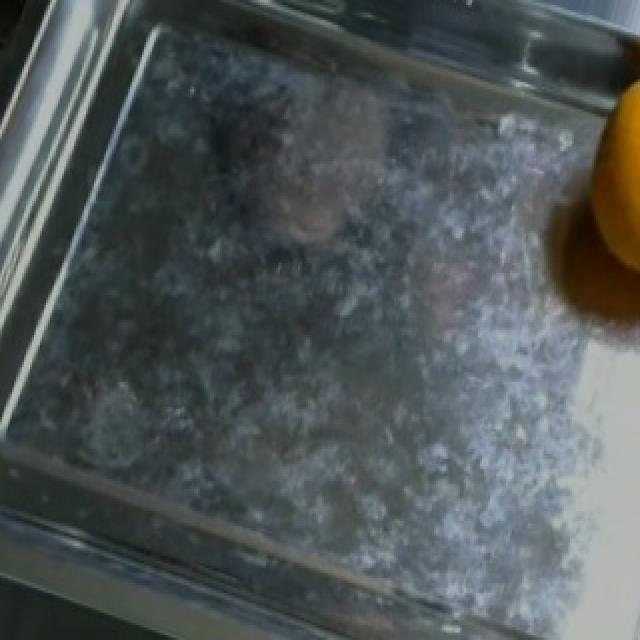Fruit: (566, 52, 640, 290)
